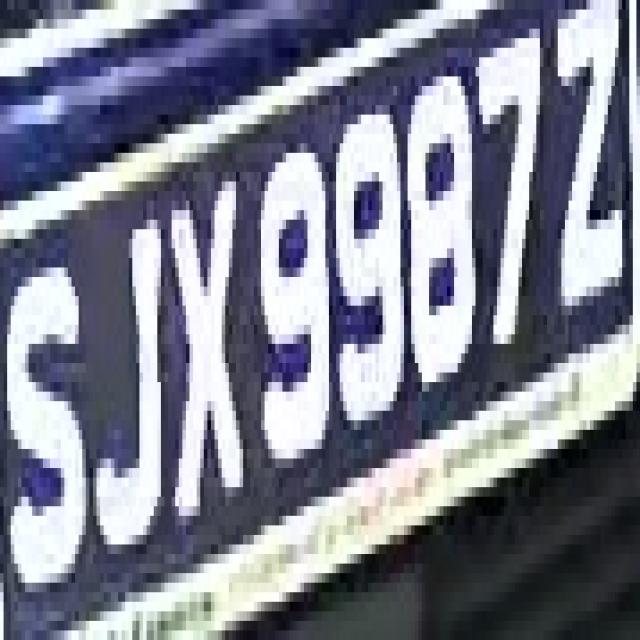7: (468, 38, 540, 382)
8: (401, 76, 486, 411)
9: (243, 134, 333, 487), (329, 76, 408, 430)
J: (86, 182, 179, 554)
S: (8, 258, 90, 611)
X: (165, 143, 246, 544)
Z: (547, 0, 633, 344)
